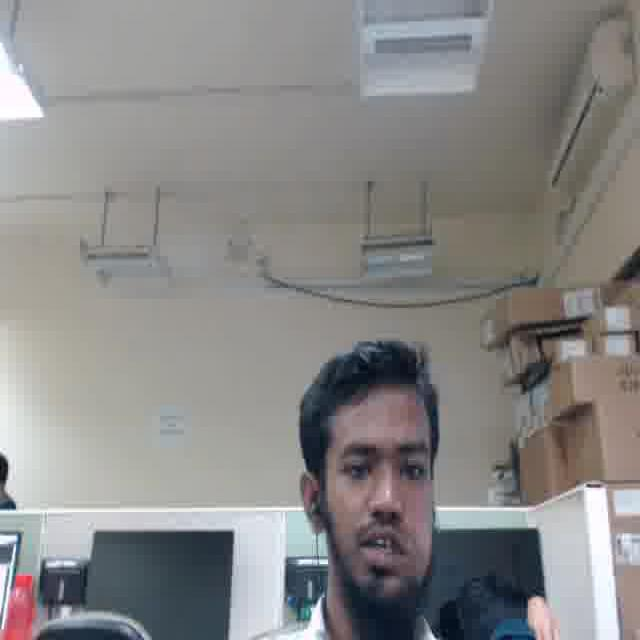Engaged: (325, 393, 437, 592)
